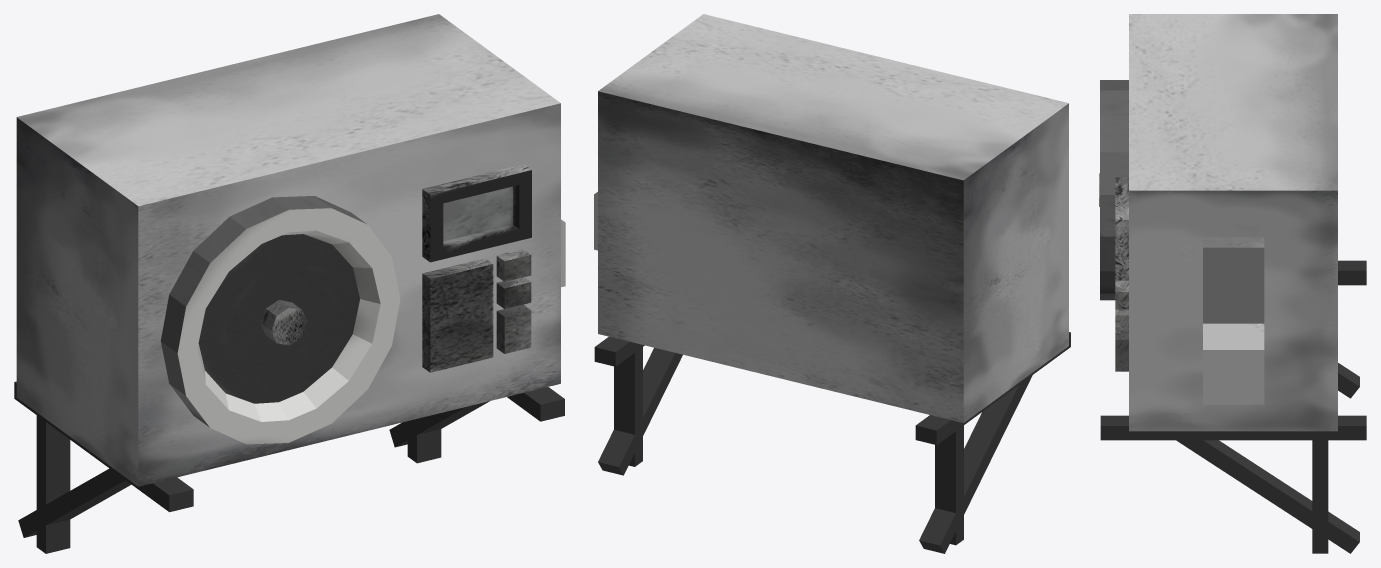
Rendered from aircon3.fbx.
3 renders of one model, left to right at view 1: azimuth 30°, elevation 25°; view 2: azimuth 150°, elevation 25°; view 3: azimuth 270°, elevation 25°, orthographic. The views are drawn at different scales.
Parts seen in each view (by area): view 1: Cube.027; view 2: Cube.027; view 3: Cube.027.
Boxes of the visible parts, x1,y1,x2,y2 form: Cube.027: (14, 14, 565, 553); Cube.027: (594, 14, 1070, 553); Cube.027: (1099, 14, 1366, 553).
Size of the model in its own units: 83.45 by 72.9 by 47.88.
1 material, 1 textured.
